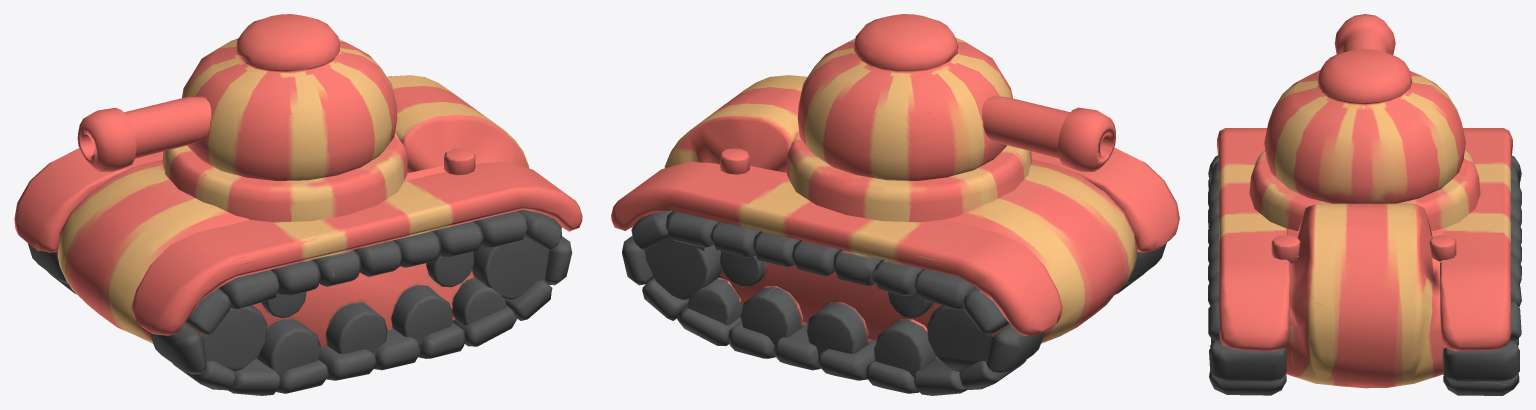
The model's file is tank.glb.
The picture shows the model from 3 angles, left to right: view 1: azimuth 30°, elevation 25°; view 2: azimuth 150°, elevation 25°; view 3: azimuth 270°, elevation 25°; orthographic projection. The views are drawn at different scales.
Bounding box in the file's own units: 0.9575 × 0.6333 × 0.646.
1 material, 1 textured.
